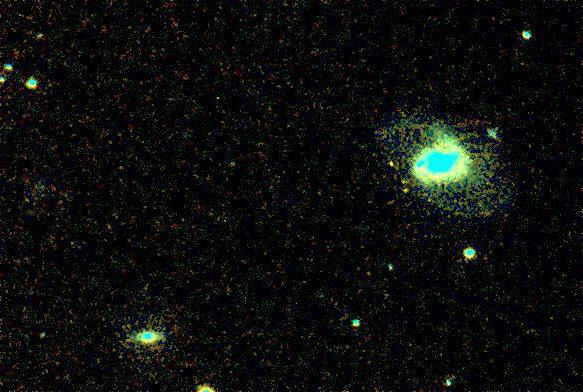star: (394, 175, 424, 205)
